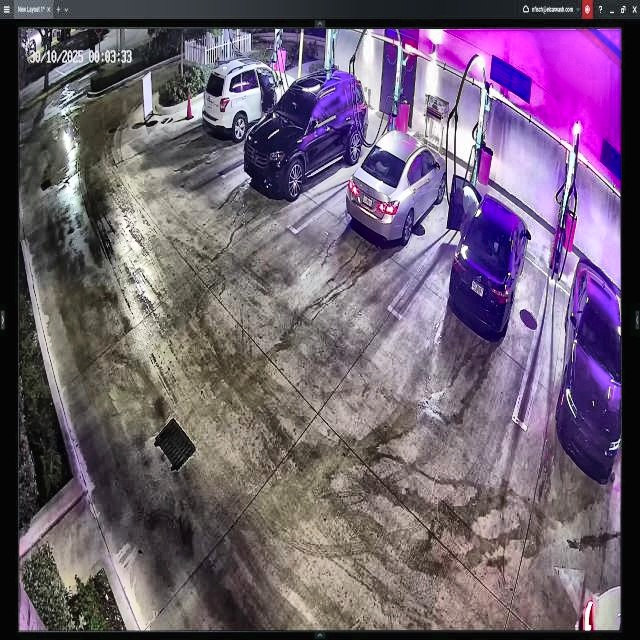Car: (244, 68, 368, 195), (447, 174, 529, 337), (346, 130, 447, 242)
